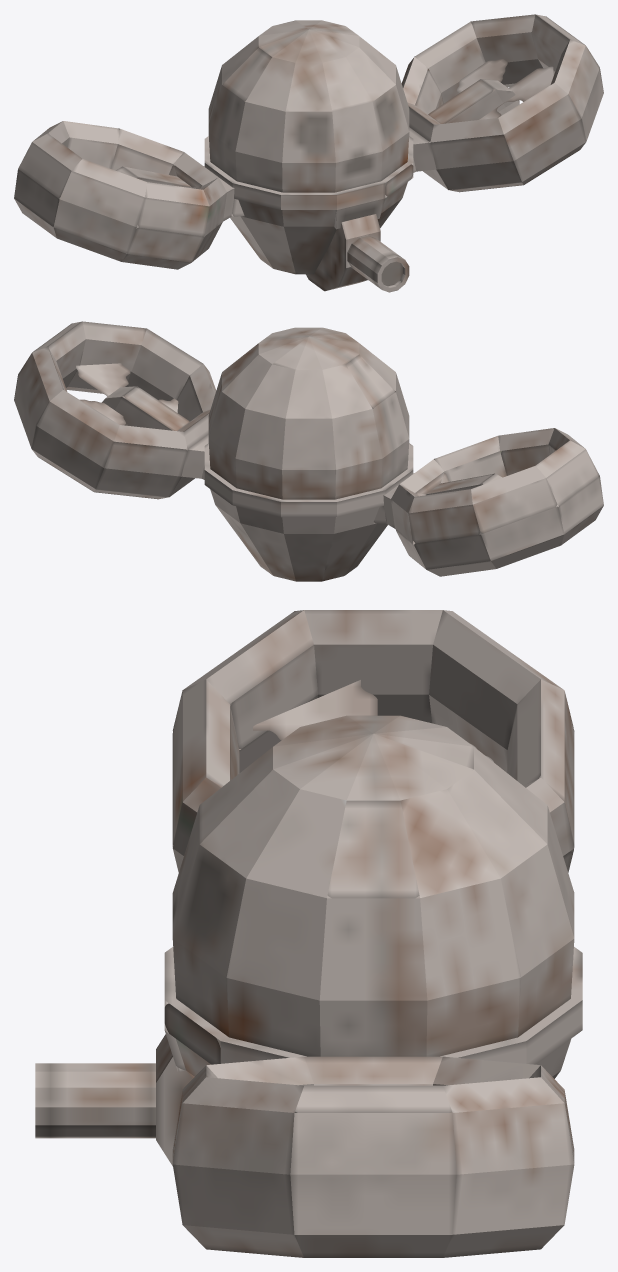
File: FlyingEnemy.fbx
3 views of the same model, one above another, from view 1: azimuth 30°, elevation 25°; view 2: azimuth 150°, elevation 25°; view 3: azimuth 270°, elevation 25° (orthographic). The views are drawn at different scales.
Visible parts, largest first — view 1: Head, PropellorHousing_1, PropellorHousing, Body, Gun, Propellor_1; view 2: Head, PropellorHousing_1, PropellorHousing, Body, Propellor_1; view 3: Head, PropellorHousing_1, PropellorHousing, Gun, Body, Propellor.
Part boxes in pixels (box(x1,y1,x2,y2)): Head: box(208, 20, 409, 192); PropellorHousing_1: box(401, 14, 603, 192); PropellorHousing: box(14, 121, 244, 269); Body: box(204, 136, 413, 274); Gun: box(306, 210, 409, 292); Propellor_1: box(457, 59, 553, 119); Head: box(208, 327, 409, 499); PropellorHousing_1: box(14, 321, 216, 499); PropellorHousing: box(374, 428, 603, 576); Body: box(204, 443, 413, 581); Propellor_1: box(76, 363, 178, 425); Head: box(172, 715, 574, 1056); PropellorHousing_1: box(172, 1056, 574, 1257); PropellorHousing: box(172, 610, 574, 872); Gun: box(35, 1034, 220, 1166); Body: box(164, 947, 582, 1078); Propellor: box(253, 680, 493, 762).
Bounding box in the file's own units: 237 × 96.25 × 102.
Materials: 1 (1 with a texture image).
